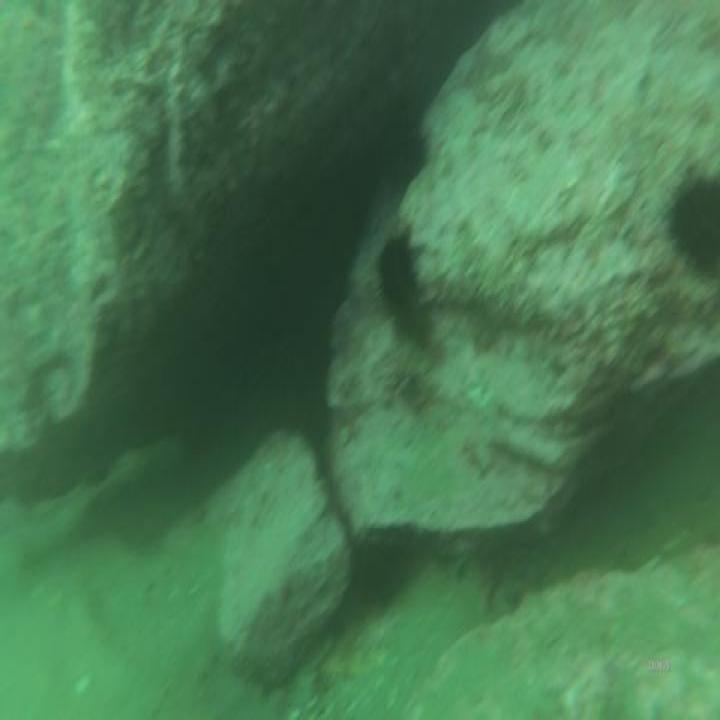echinus: (661, 162, 720, 288), (376, 226, 420, 325)
